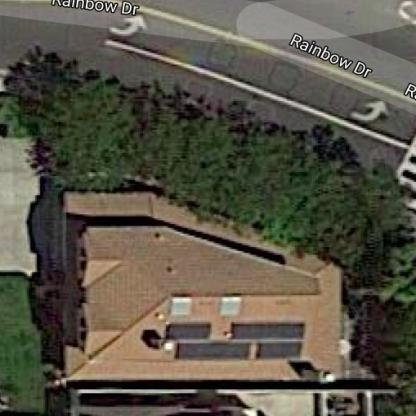solar_panel: (160, 311, 308, 373)
